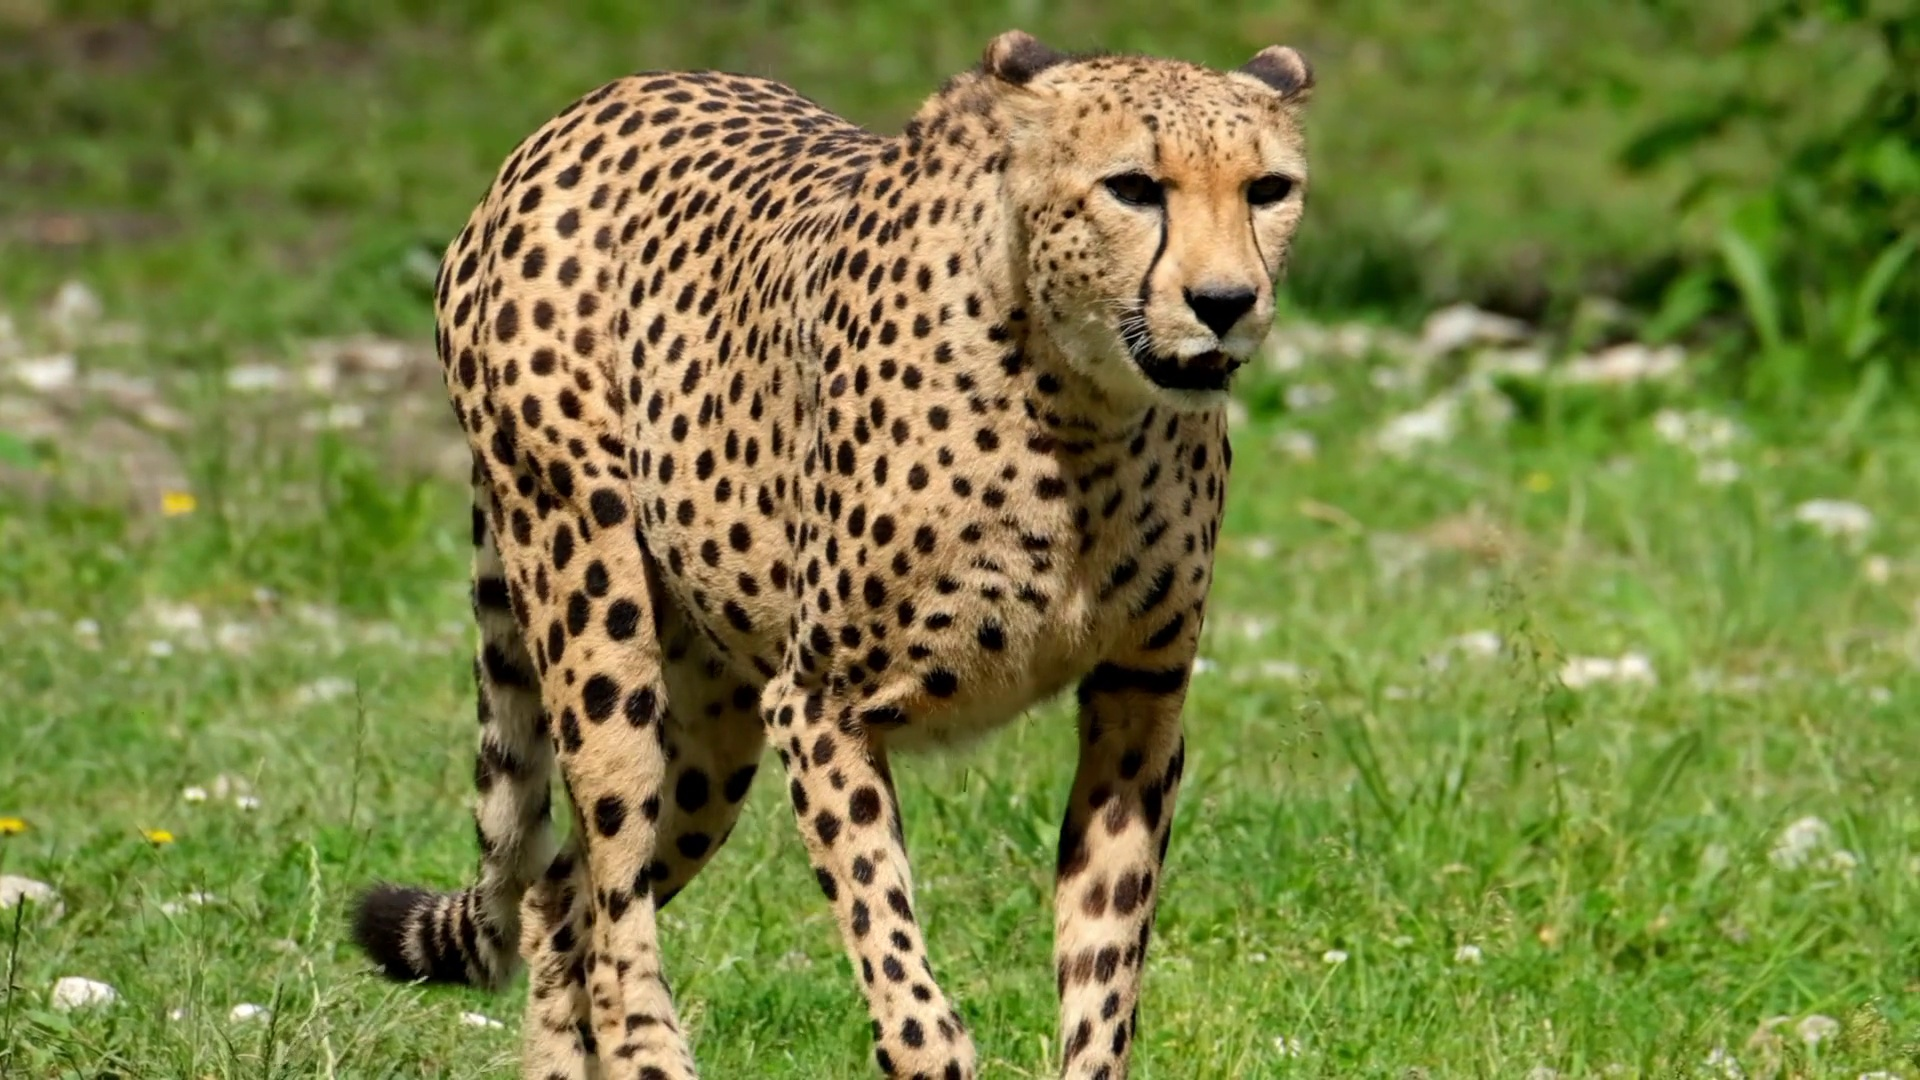Cheetah: (345, 26, 1316, 1080)
